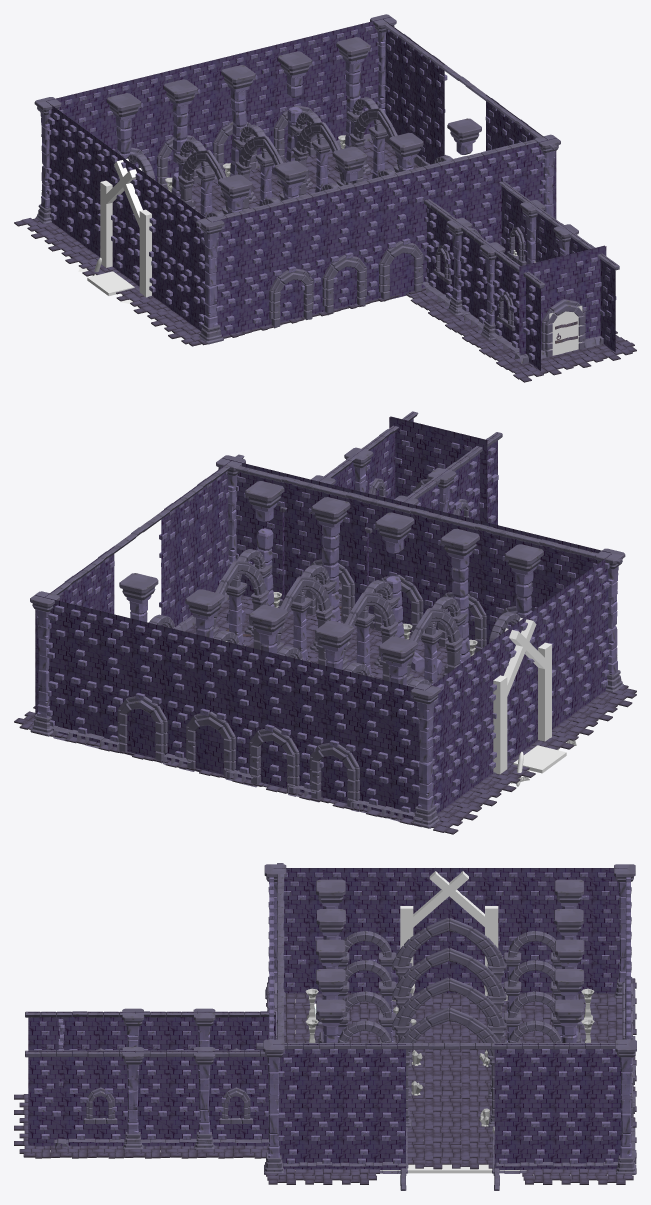
File: Level_02_New.fbx
3 renders of one model, top to bottom at view 1: azimuth 30°, elevation 25°; view 2: azimuth 150°, elevation 25°; view 3: azimuth 270°, elevation 25°, orthographic. The views are drawn at different scales.
Visible parts, largest first — view 1: Level_02; view 2: Level_02; view 3: Level_02.
Part boxes in pixels (x1=…): Level_02: x1=14, y1=14, x2=636, y2=382; Level_02: x1=14, y1=411, x2=636, y2=834; Level_02: x1=14, y1=863, x2=636, y2=1190.
Size of the model in its own units: 2846 by 913 by 3523.
